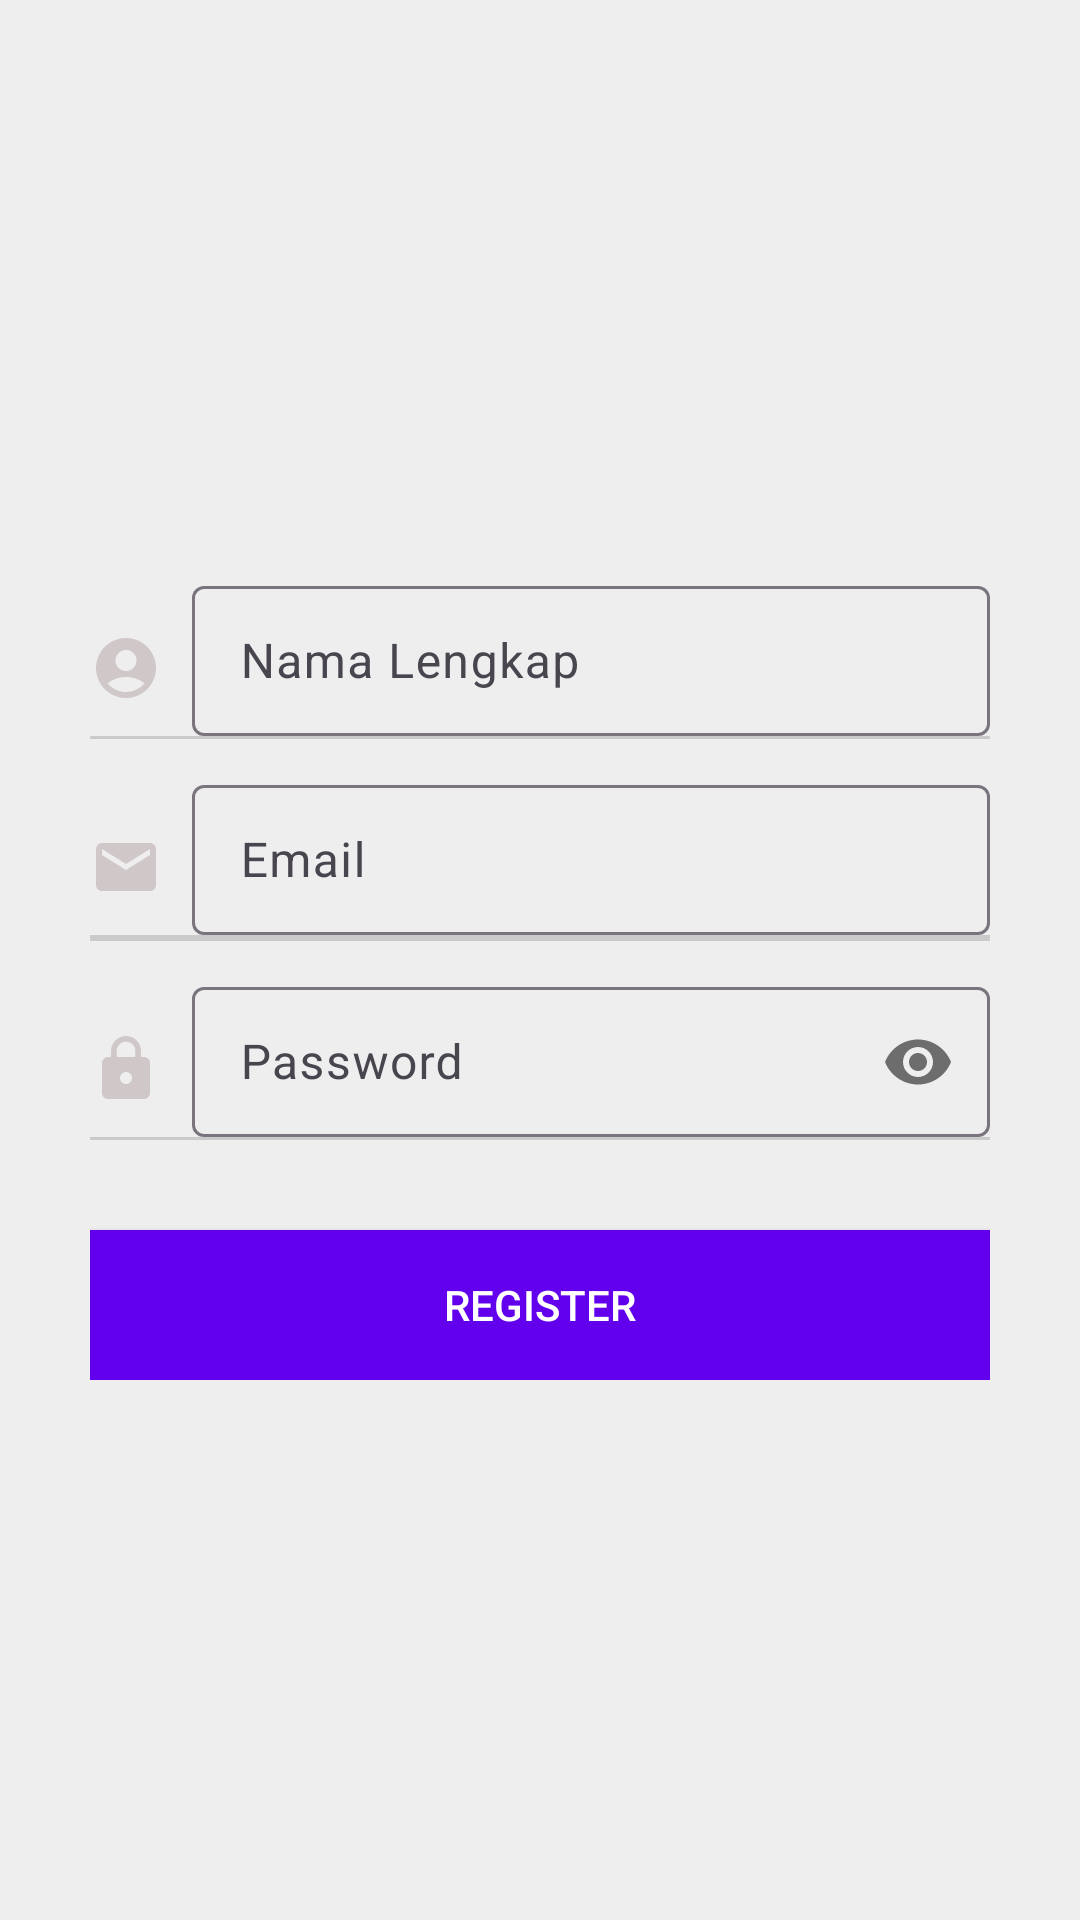

Icons on this 1080*1920 Android screen, each with its box as (x1, y1, x2, y2):
account circle: (96, 638, 156, 698)
lock: (102, 1036, 150, 1099)
